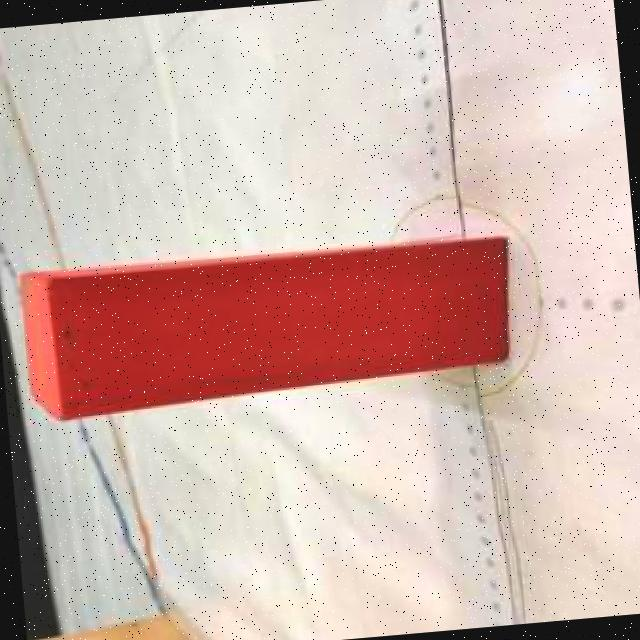redbox: (16, 226, 522, 425)
